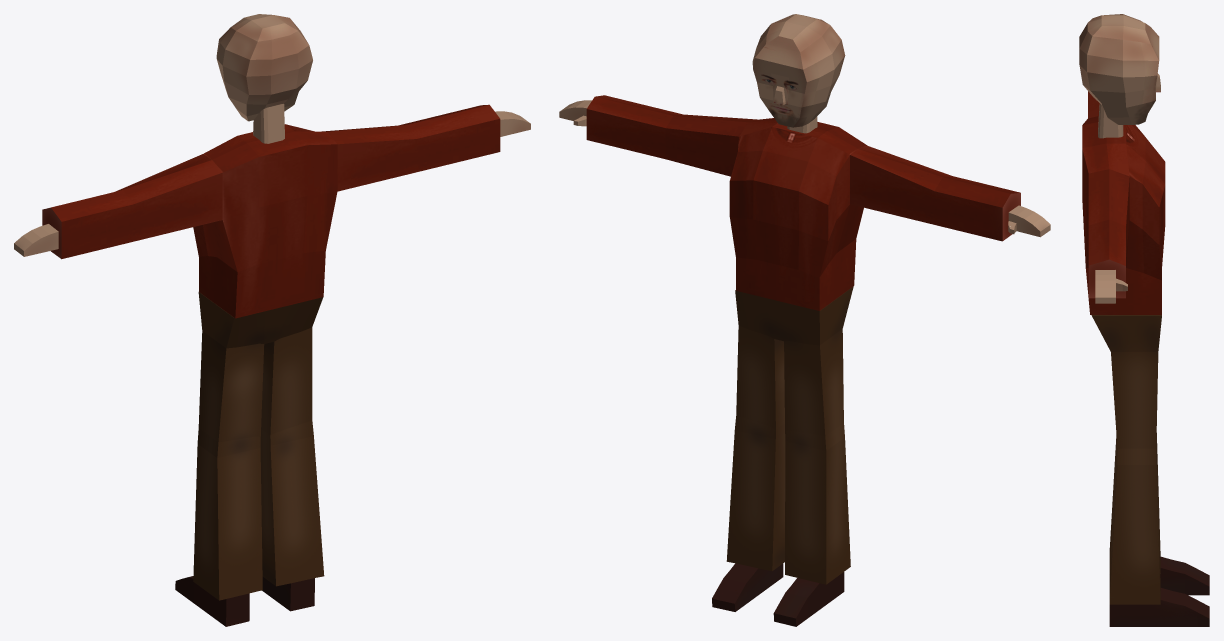
Rendered from GGJNormalNPC.fbx.
The picture shows the model from 3 angles, left to right: view 1: azimuth 30°, elevation 25°; view 2: azimuth 150°, elevation 25°; view 3: azimuth 270°, elevation 25°; orthographic projection. The views are drawn at different scales.
Parts seen in each view (by area): view 1: MaleNPC.002; view 2: MaleNPC.002; view 3: MaleNPC.002.
Boxes of the visible parts, <box> form: MaleNPC.002: <box>14,14,530,626</box>; MaleNPC.002: <box>559,14,1050,626</box>; MaleNPC.002: <box>1079,14,1209,626</box>.
Bounding box in the file's own units: 1058 × 1183 × 238.
1 material, 1 textured.
